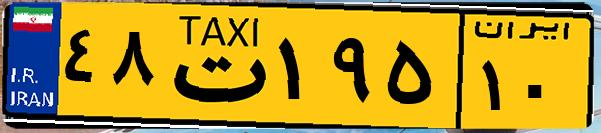0: (525, 38, 570, 115)
1: (270, 28, 330, 110), (475, 38, 525, 113)
4: (57, 26, 110, 100)
5: (385, 28, 445, 110)
8: (110, 28, 158, 98)
9: (330, 28, 385, 110)
ت: (158, 12, 270, 120)
